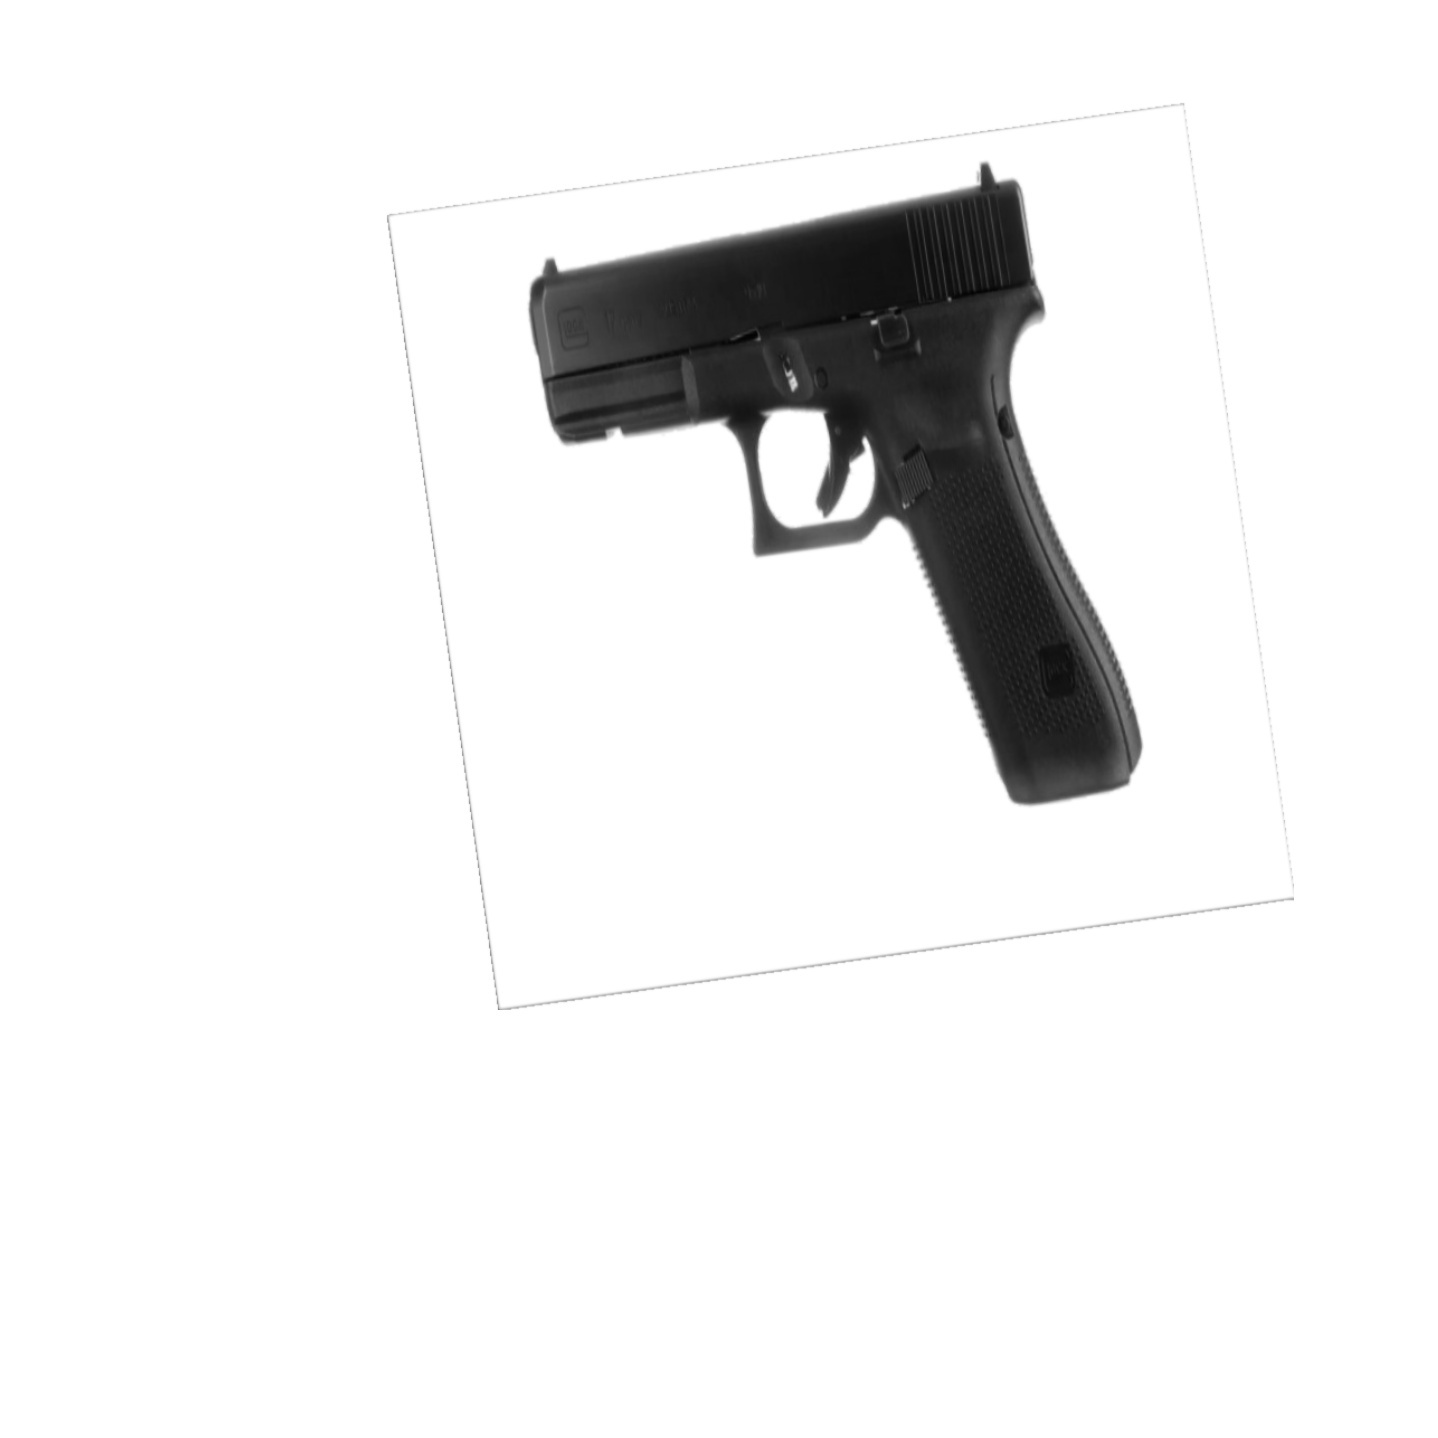gun: (521, 158, 1159, 810)
